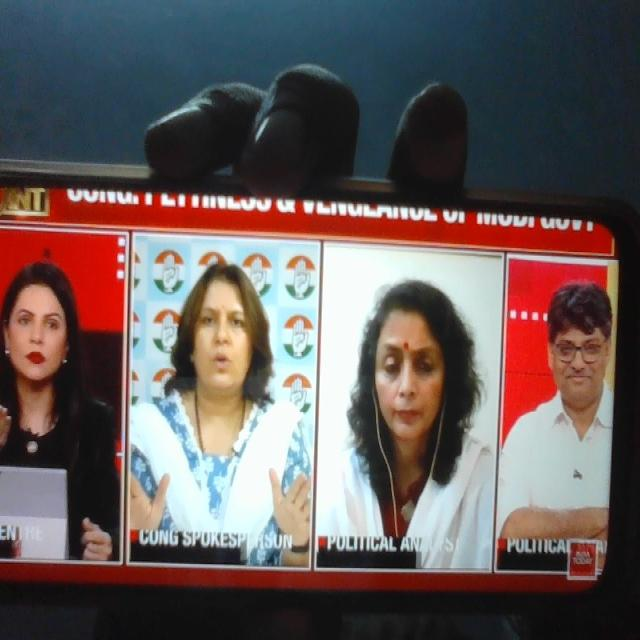fake: (360, 283, 454, 461)
